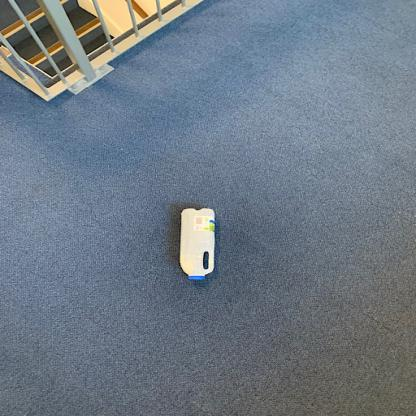trash: (180, 206, 217, 284)
